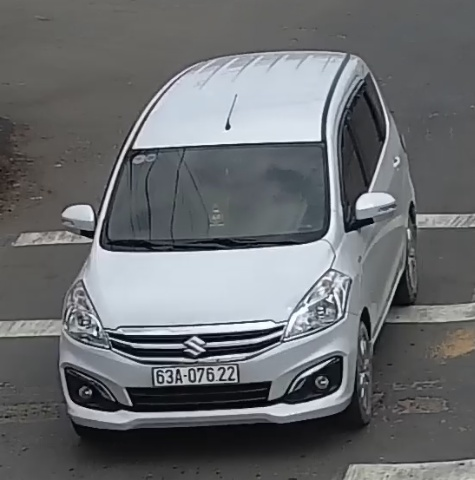vehicle plate: (145, 357, 248, 387)
